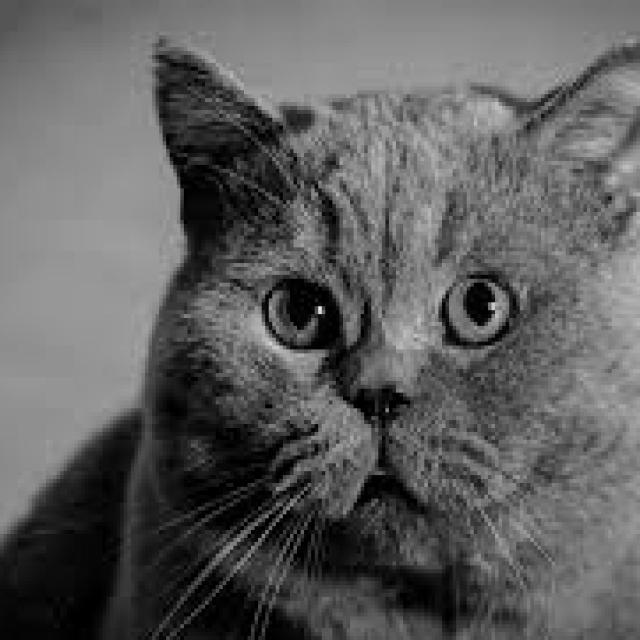british: (152, 73, 616, 584)
